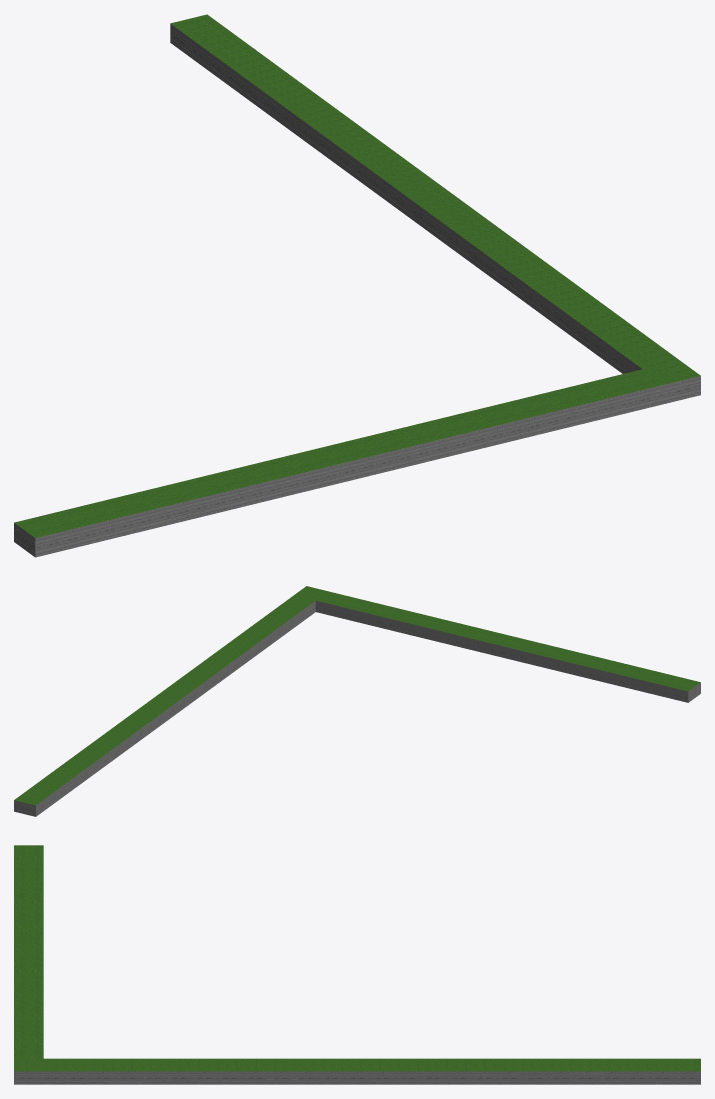
The model's file is MilleniumWall.glb.
3 views of the same model, one above another, from view 1: azimuth 30°, elevation 25°; view 2: azimuth 150°, elevation 25°; view 3: azimuth 270°, elevation 25° (orthographic). The views are drawn at different scales.
Parts seen in each view (by area): view 1: MillenniumWall32, MillenniumWall22; view 2: MillenniumWall32, MillenniumWall22; view 3: MillenniumWall32, MillenniumWall22.
Part boxes in pixels (x1,y1,x2,y2): MillenniumWall32: [170, 14, 700, 403]; MillenniumWall22: [14, 369, 663, 557]; MillenniumWall32: [14, 586, 327, 816]; MillenniumWall22: [315, 591, 700, 702]; MillenniumWall32: [14, 1058, 700, 1084]; MillenniumWall22: [14, 845, 43, 1058].
Size of the model in its own units: 36 by 1 by 46.25.
Materials: 2 (2 with a texture image).
